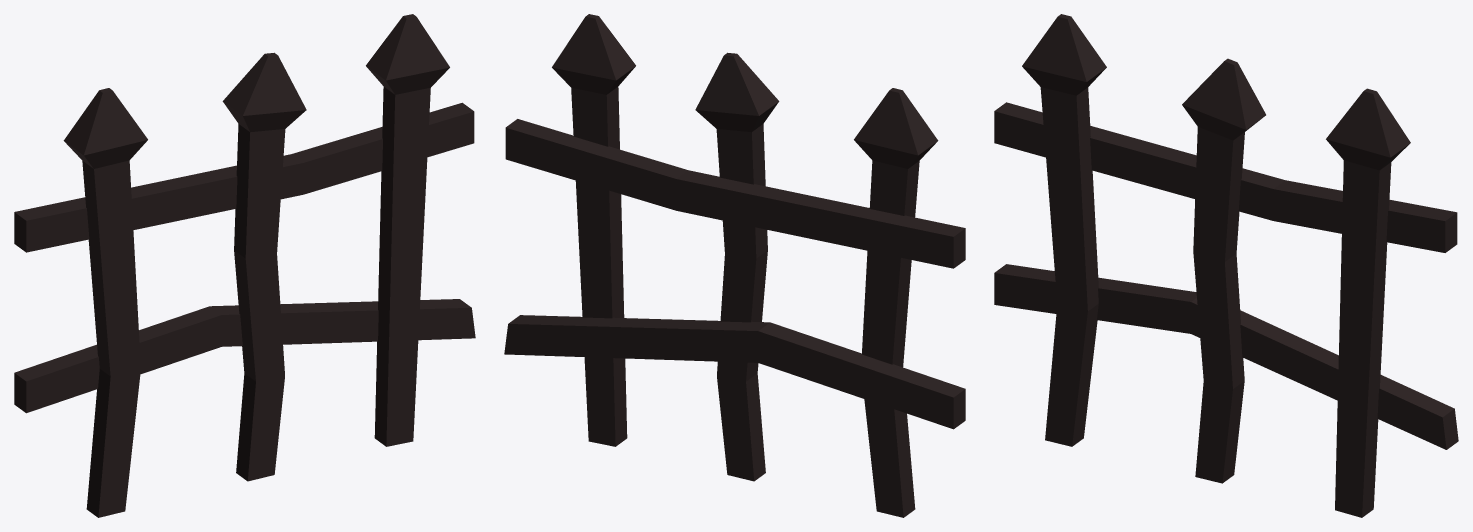
Rendered from fenceC1.glb.
3 renders of one model, left to right at view 1: azimuth 30°, elevation 25°; view 2: azimuth 150°, elevation 25°; view 3: azimuth 330°, elevation 25°, orthographic.
Parts seen in each view (by area): view 1: fenceC1; view 2: fenceC1; view 3: fenceC1.
Part boxes in pixels (bbox=[...]): fenceC1: bbox=[14, 14, 475, 517]; fenceC1: bbox=[504, 14, 965, 517]; fenceC1: bbox=[994, 14, 1458, 517].
Bounding box in the file's own units: 1.04 × 0.928 × 0.1085.
Materials: 1 (1 with a texture image).
